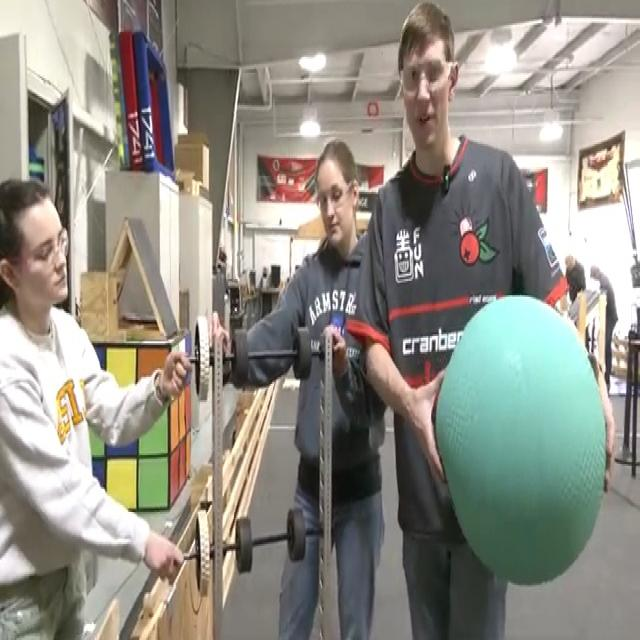Algae: (433, 289, 608, 586)
